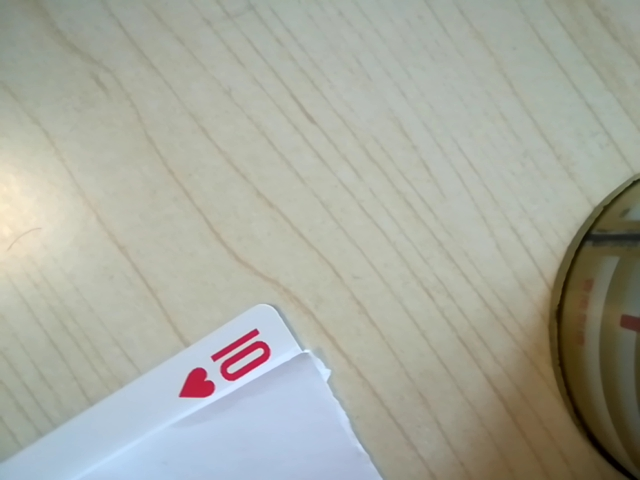hx 10: (174, 326, 282, 407)
